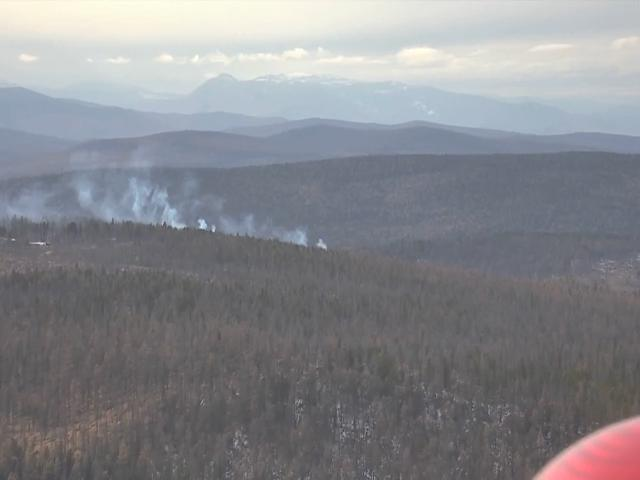smoke: (0, 140, 330, 254)
